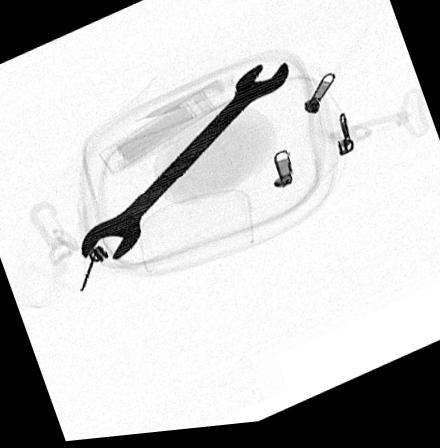Wrench: (78, 68, 288, 263)
